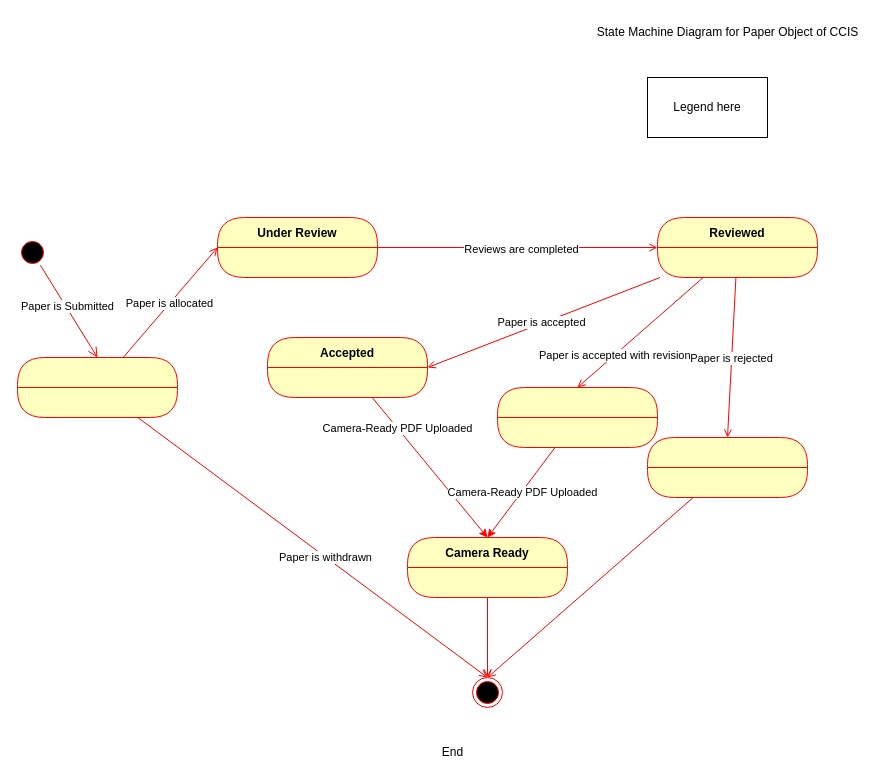
This 885x784 diagram has some shape labels left out. Here are the shapes that lost their labels. From the top down, the centre of each, then its label:
At (97,387): "Submitted".
At (577,417): "Accepted with Revisions".
At (727,467): "Rejected".
